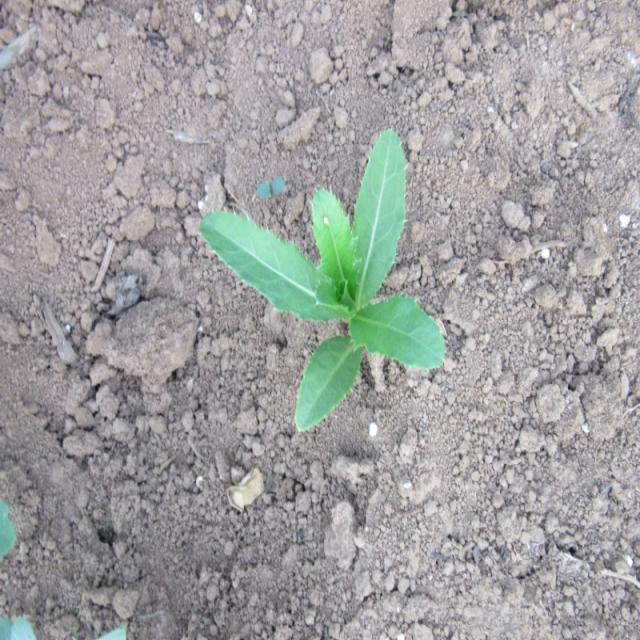cs: (196, 127, 449, 436)
